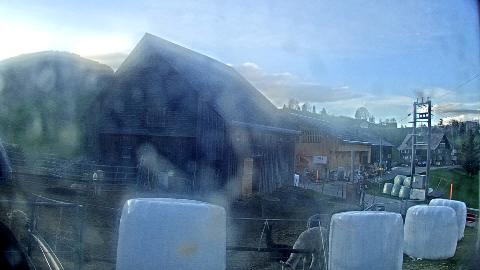car: (348, 170, 364, 182), (418, 161, 426, 167)
sheep: (279, 226, 329, 270), (260, 222, 312, 264), (0, 218, 32, 270), (0, 209, 32, 255), (306, 213, 333, 229), (42, 185, 76, 195), (92, 170, 104, 194), (70, 182, 86, 196)
